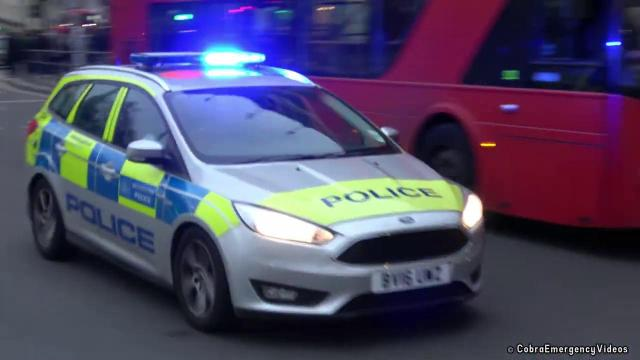police: (28, 42, 490, 324)
